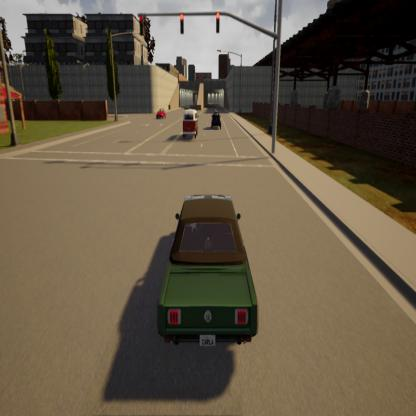Cars: (151, 186, 267, 357), (180, 105, 202, 141), (210, 108, 224, 130), (155, 106, 167, 121)
